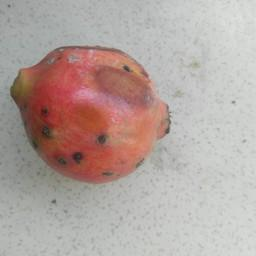Bad_pomegranate: (8, 36, 171, 193)
